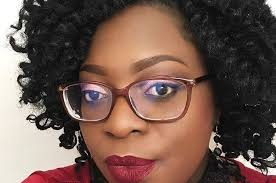Glasses: (42, 65, 201, 130)
